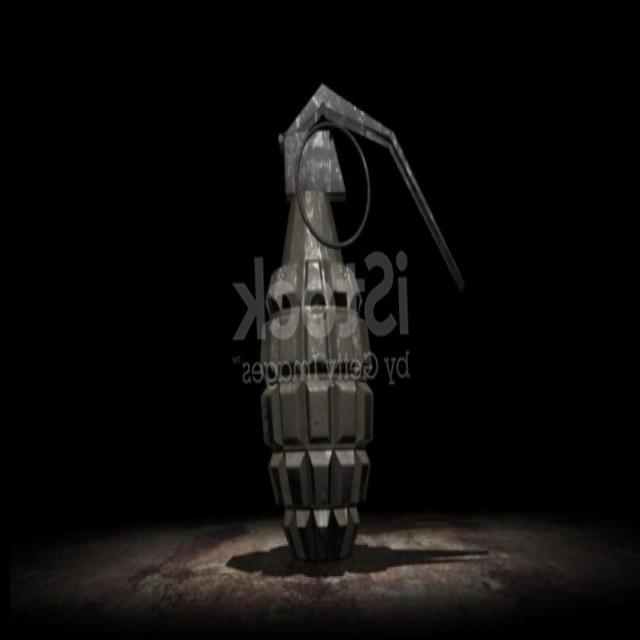grenade: (247, 70, 470, 564)
